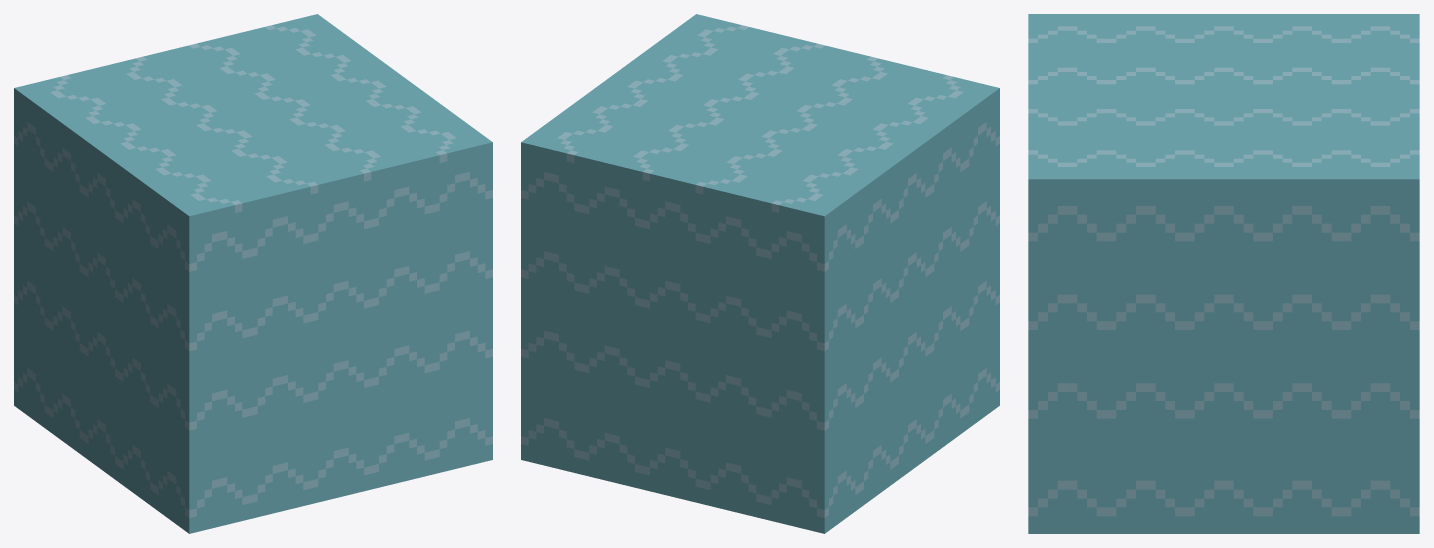
File: Vox Water block.obj
3 views of the same model, side by side, from view 1: azimuth 30°, elevation 25°; view 2: azimuth 150°, elevation 25°; view 3: azimuth 270°, elevation 25° (orthographic). The views are drawn at different scales.
Size of the model in its own units: 4 by 4 by 4.
